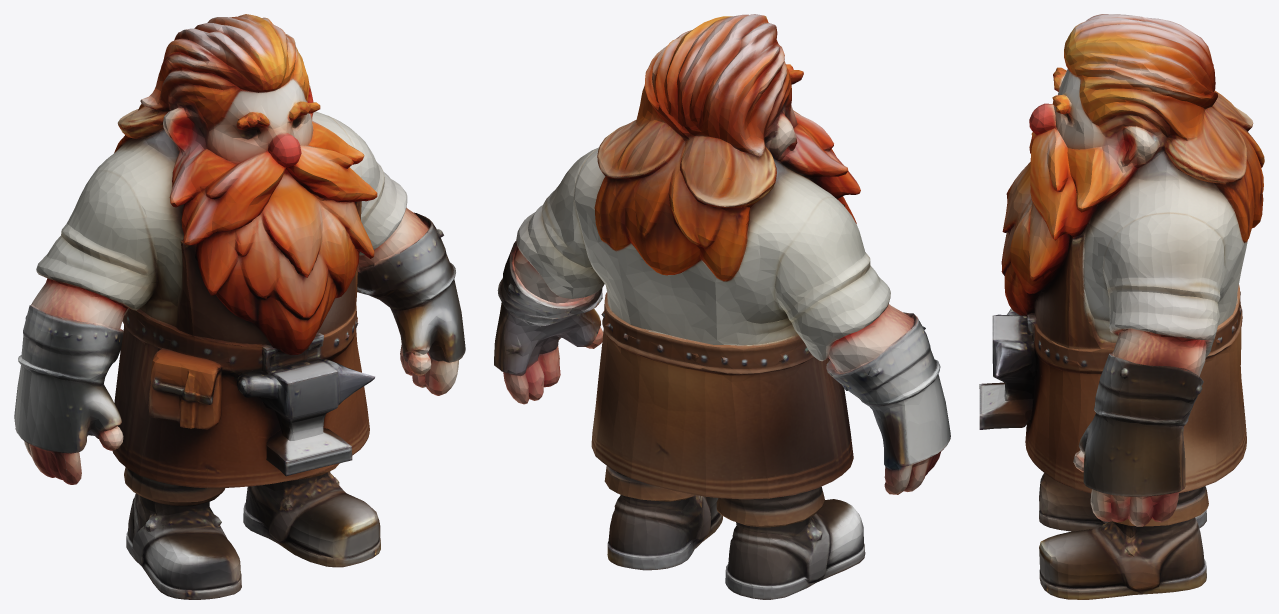
File: typical_0.glb
3 renders of one model, left to right at view 1: azimuth 30°, elevation 25°; view 2: azimuth 150°, elevation 25°; view 3: azimuth 270°, elevation 25°, orthographic.
Parts seen in each view (by area): view 1: world; view 2: world; view 3: world.
Boxes of the visible parts, box(x1,y1,x2,y2) form: world: box(14, 14, 465, 599); world: box(494, 14, 950, 599); world: box(979, 14, 1264, 599).
Size of the model in its own units: 0.8611 by 0.9996 by 0.4927.
Materials: 1 (1 with a texture image).
